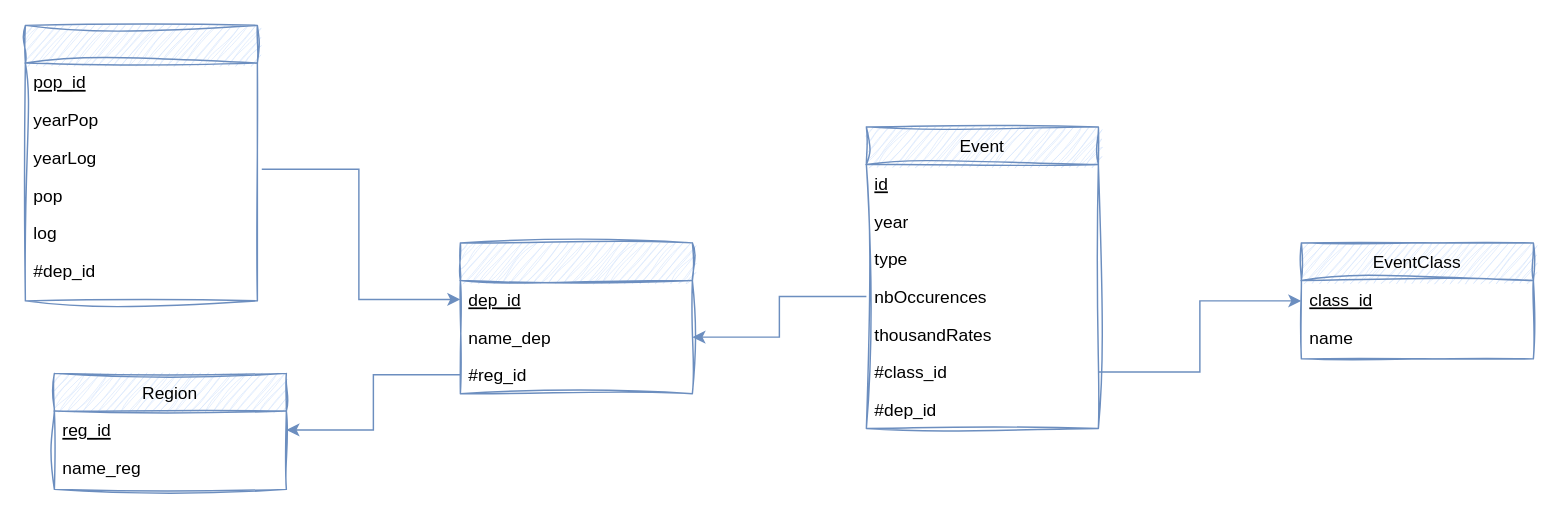
This 1559x516 diagram has some shape labels left out. The box of each missing label's shape, as (x1, y1, x2, y2) in pixels:
Departement: (459, 241, 692, 394)
Population: (24, 24, 257, 301)
